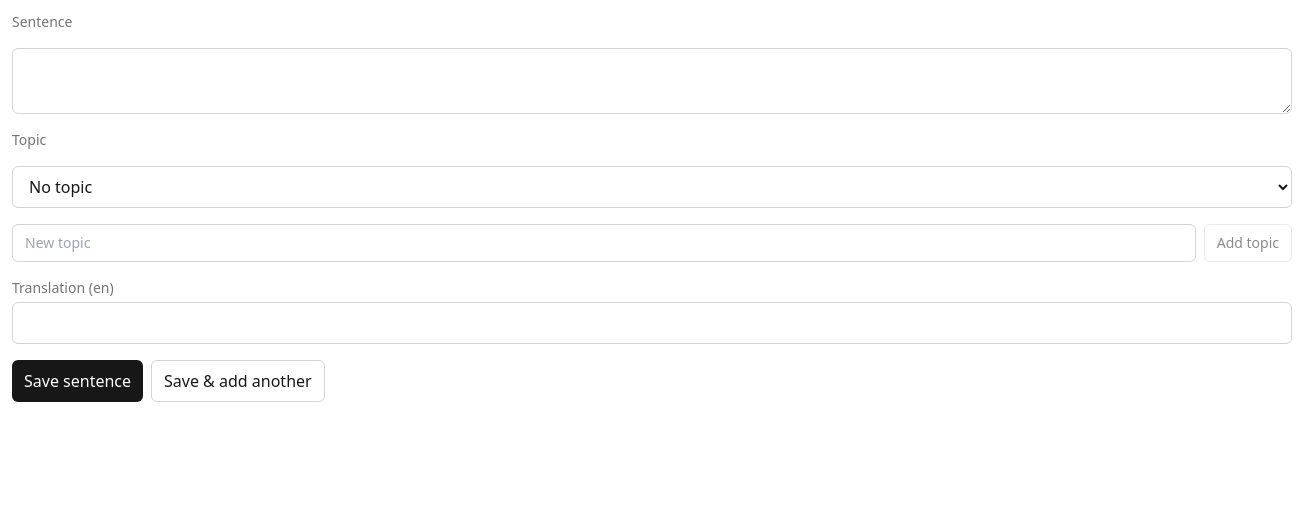
SentenceForm › stays on the form and clears it after 'Save & add another'
The width and height of the screenshot is (1304, 517).
In the text box labelled "Sentence": [652, 81] box [12,48,1292,114], type "Bevo tè"
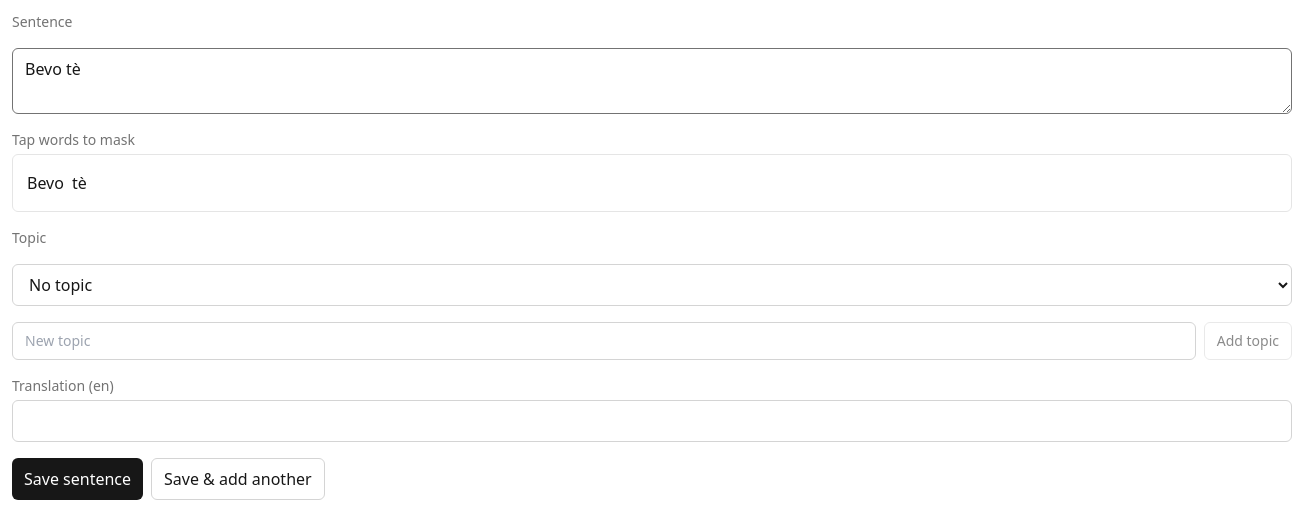
In the field labelled "Translation (en)": [652, 421] box [12,400,1292,442], type "I drink tea"
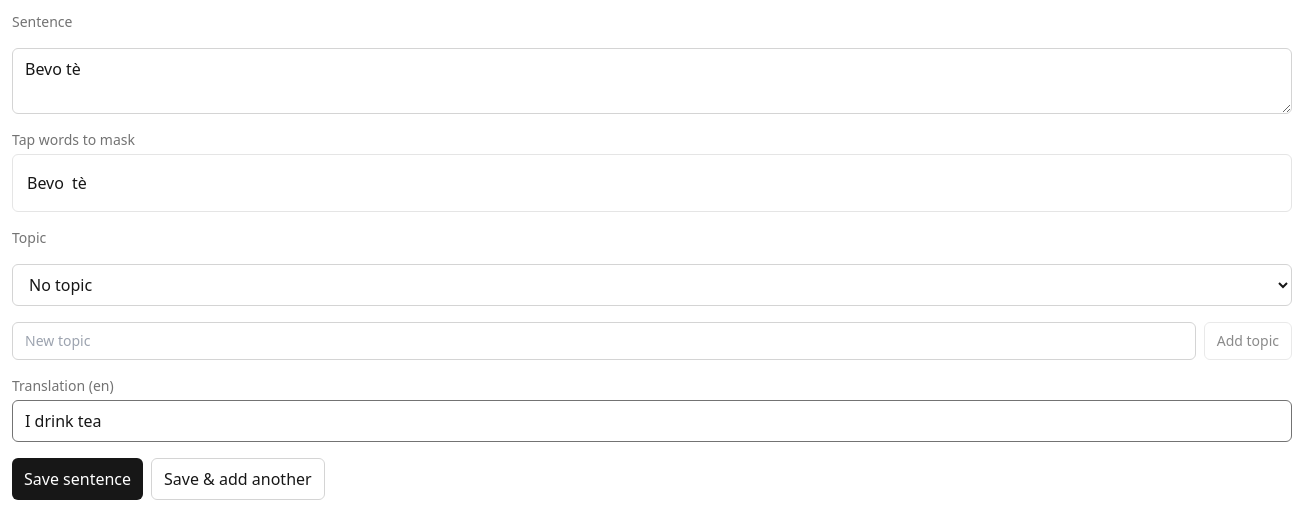
Click the button "Save & add another": [238, 479] box [151,458,325,500]
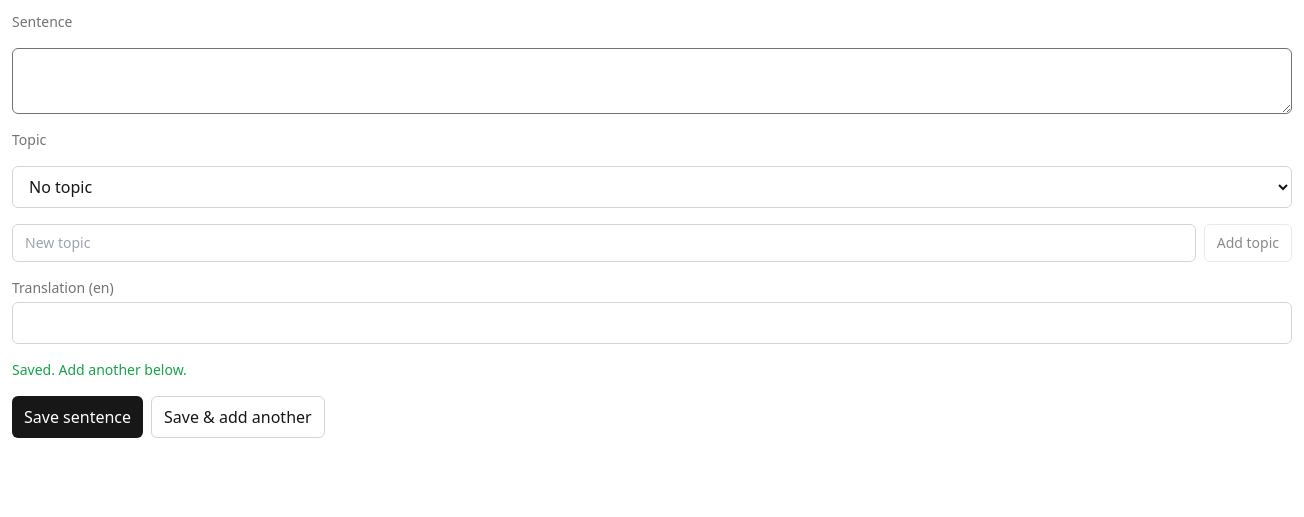
Expected: the text box labelled "Sentence" is empty, [12,48,1292,114]
Expected: the field labelled "Translation (en)" is empty, [12,302,1292,344]
Expected: the text "Saved. Add another below." is shown, [12,360,187,379]
